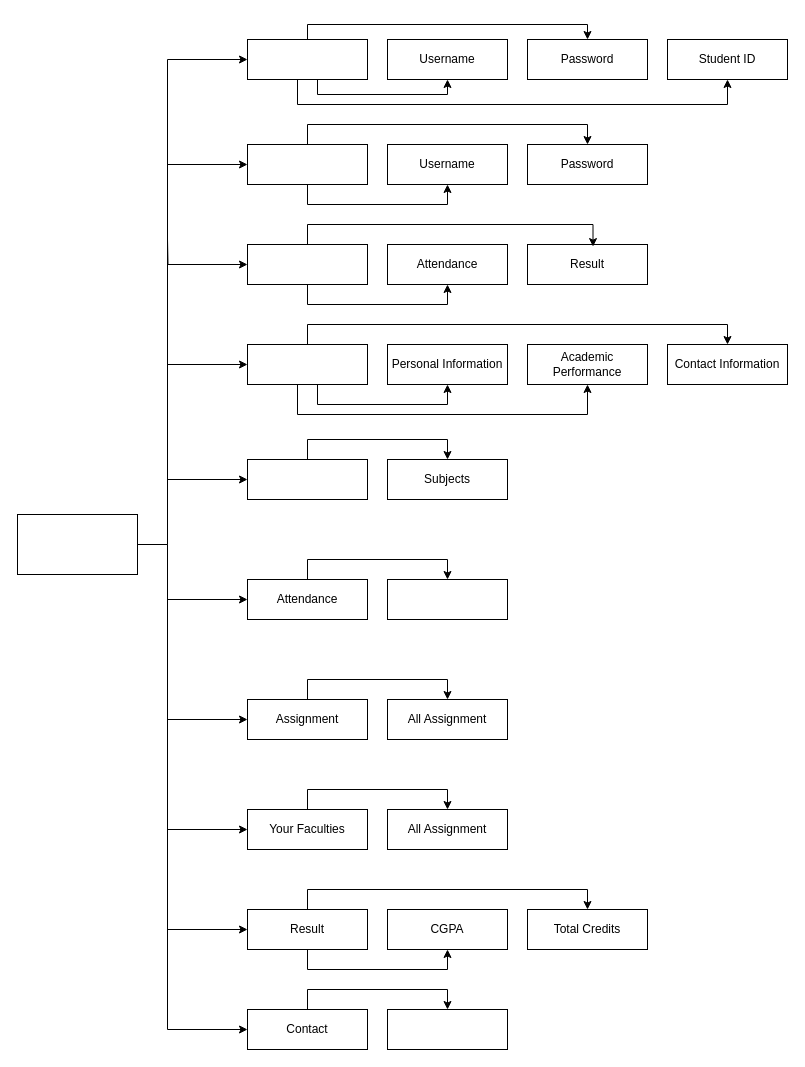
Image size: 805x1067. Some labels were removed from this diagram. Each missing label, with the centre of its shape:
Contact Info Of Portal: point (447, 1029)
Courses: point (307, 479)
Dashboard: point (307, 264)
Login: point (307, 164)
Overall Attendance: point (447, 599)
Profile: point (307, 364)
Register: point (307, 59)
Student Portal: point (77, 544)
